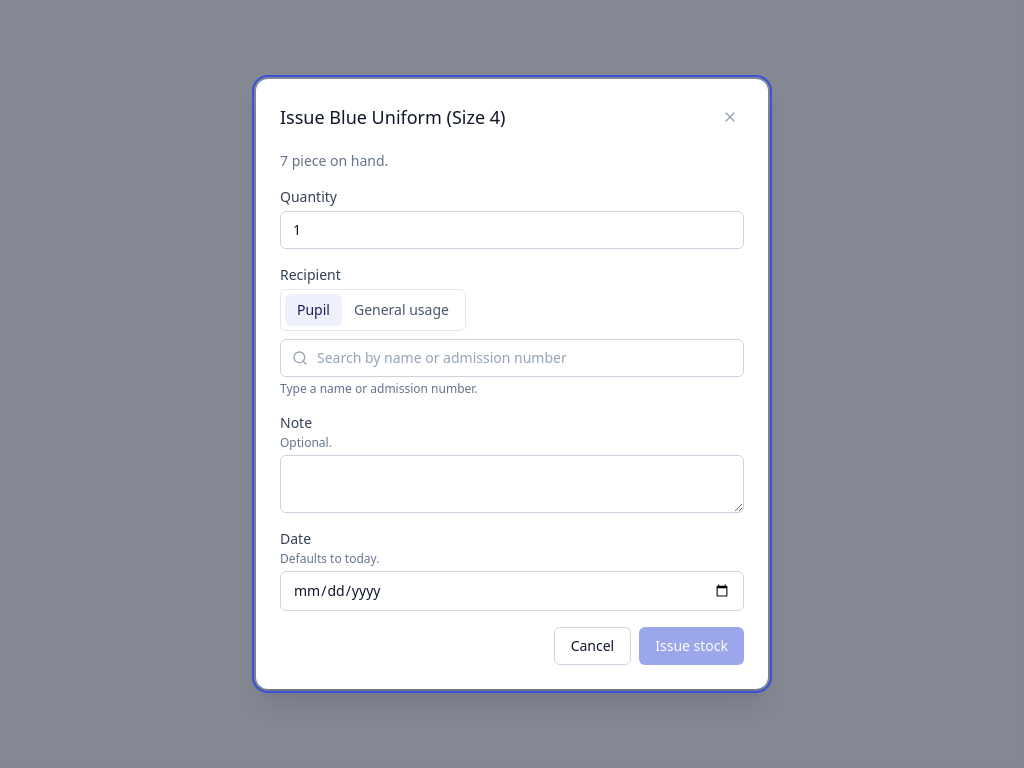
it: StockIssueModal › shows the server's error message on a refused issue
This screenshot has width=1024, height=768.
Click the radio button labelled "General usage": (402, 310) [342,294,461,326]
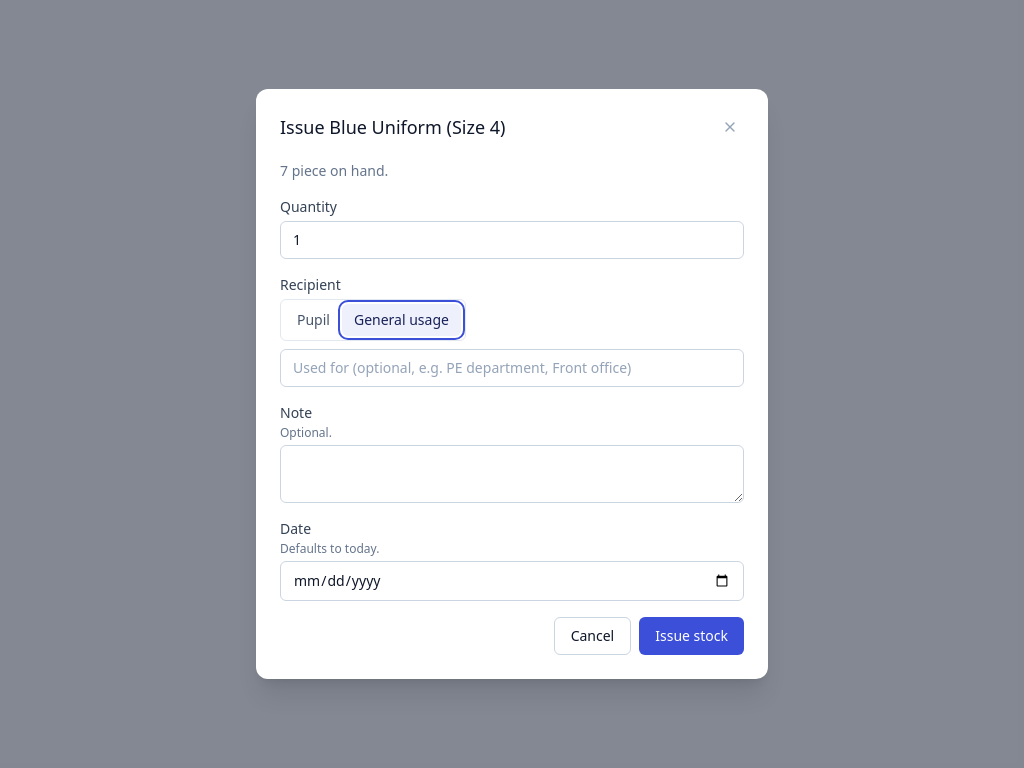
Click the button "Issue stock": (692, 636) [639,617,744,655]
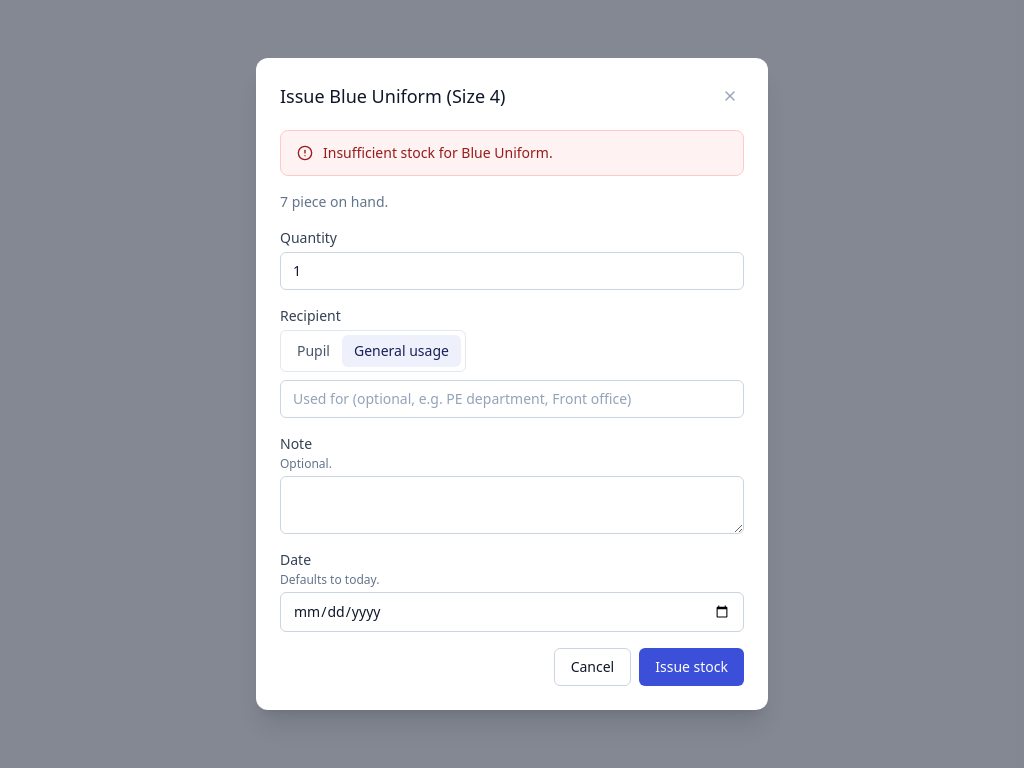
Expected: the text "Insufficient stock for Blue Uniform." is shown, [323,143,553,163]
